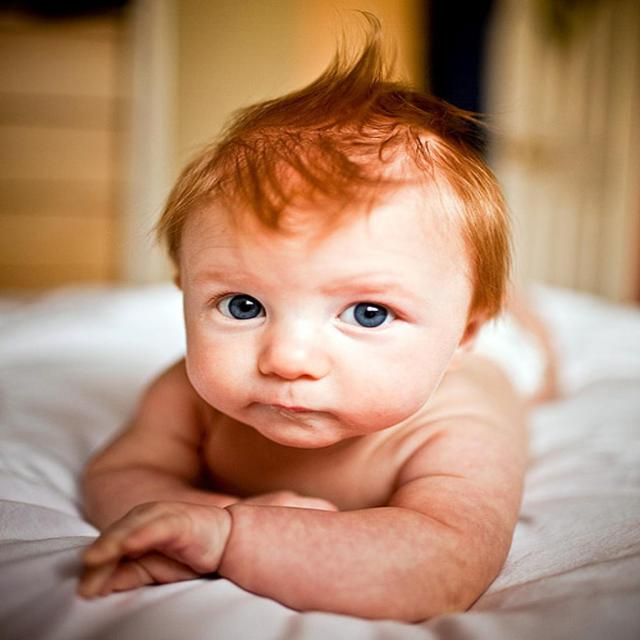nomask: (183, 180, 456, 449)
